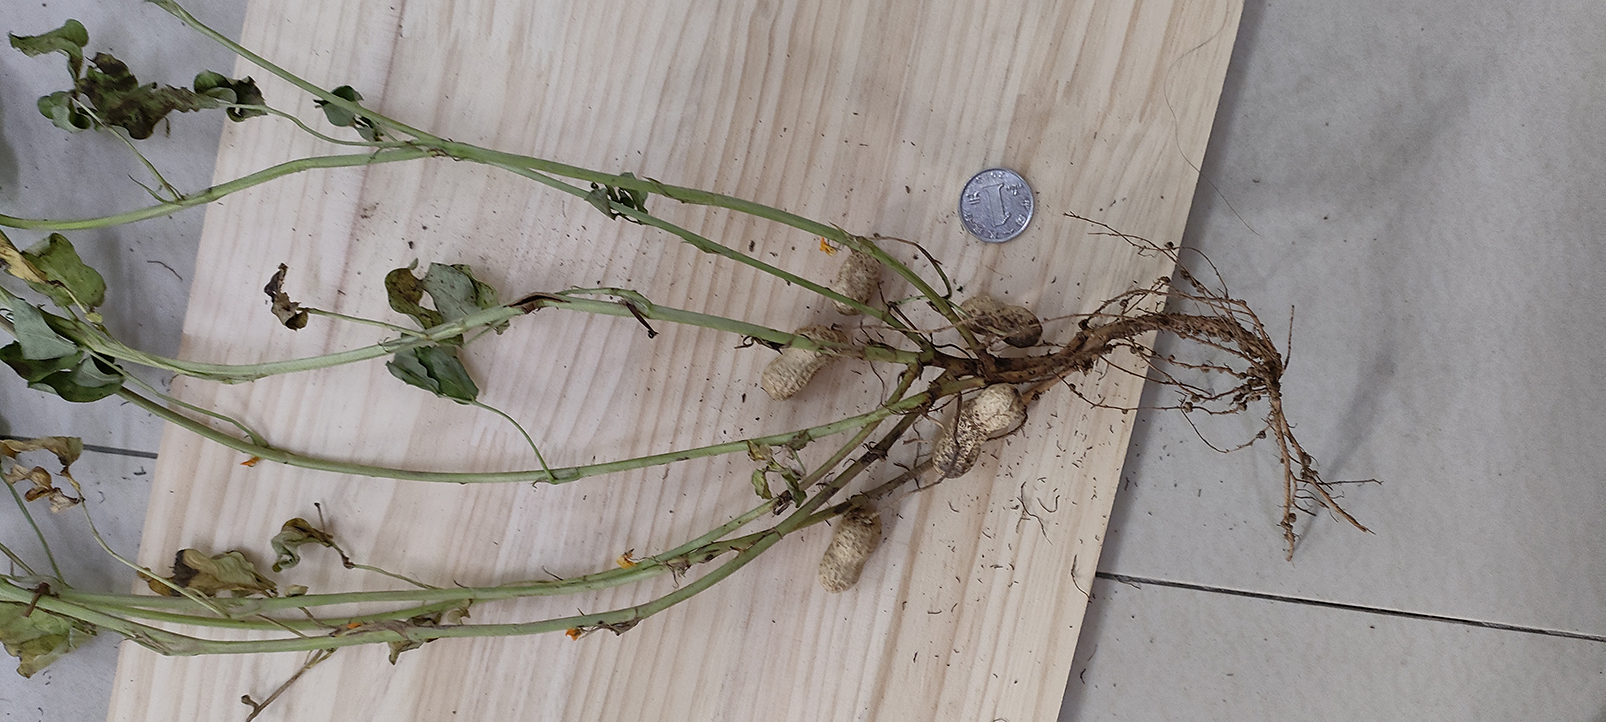h: (931, 383, 1022, 479), (761, 324, 842, 400), (818, 507, 876, 593), (833, 252, 882, 313)
l: (956, 298, 1041, 347)
